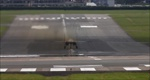maybay_muctieu: (57, 35, 84, 50)
